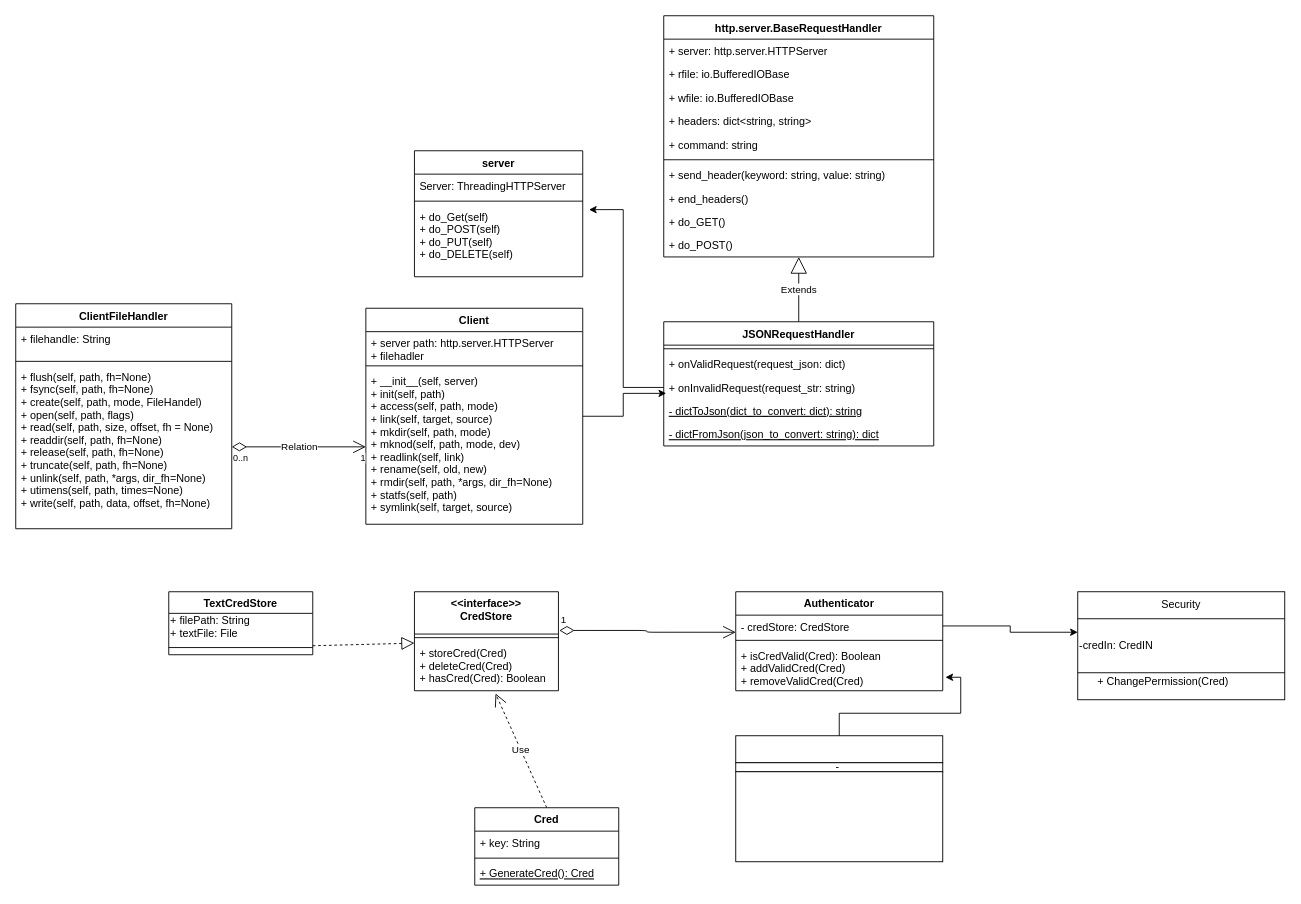
The diagram is 1301 pixels wide and 904 high, and some of its shapes have lost their labels. Here are the shapes that lost their labels. From the top down, the centre of each, then its label:
At (839,749): "Permissions".
At (839,816): "+ ChangeFileAccess(Cred): Boolean + UpdateUserType() + ModifyPermissions(Cred)".
